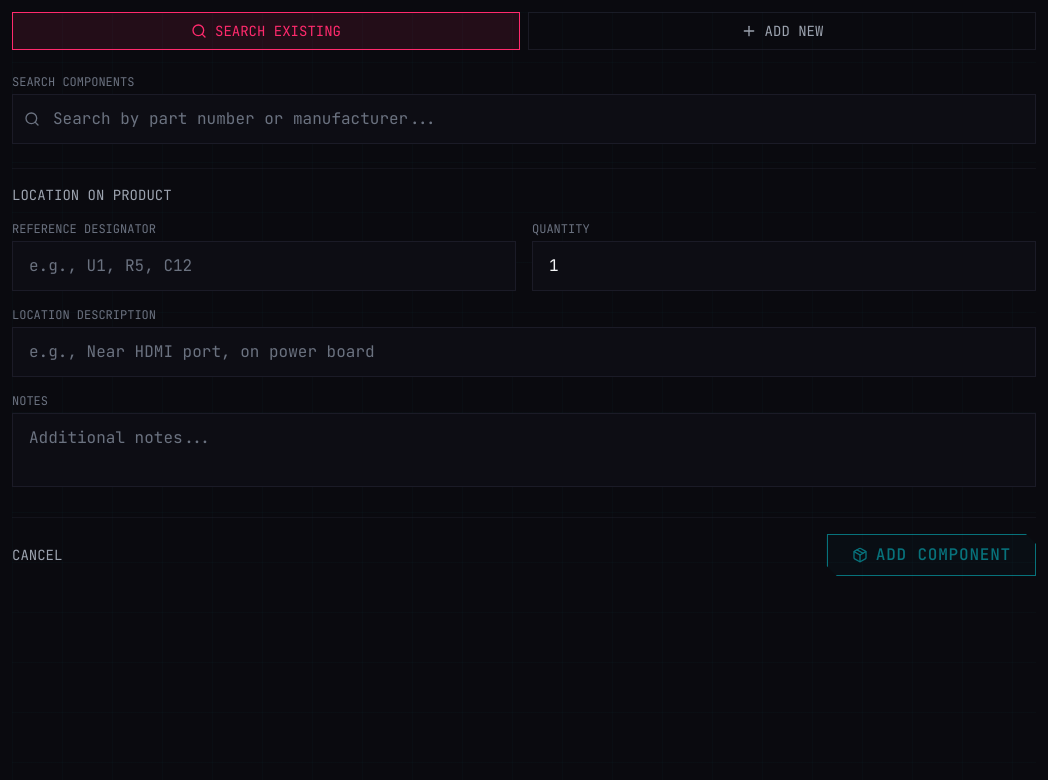
Scenario: AddComponentForm › search mode › shows search results when typing
Type "TEST" into the field with placeholder "Search by part number or manufacturer...".
click(524, 119); type("TEST")  # box x1=12 y1=94 x2=1036 y2=144
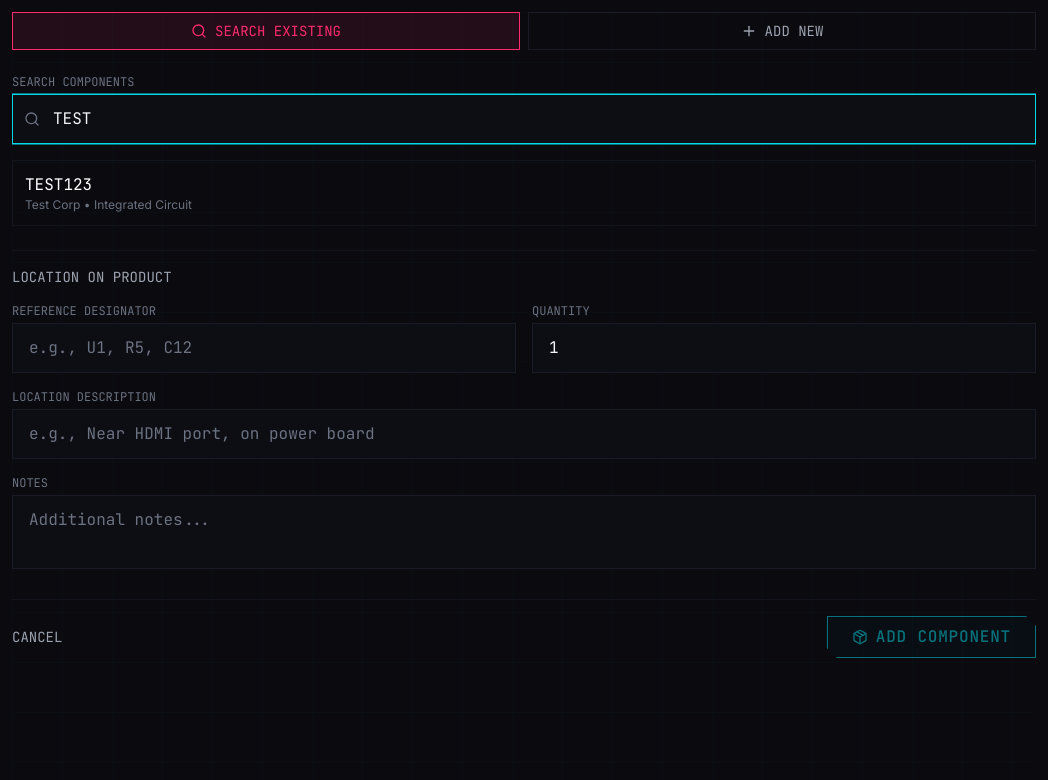
Expected: the text "TEST123" is shown, x1=25 y1=174 x2=92 y2=195
